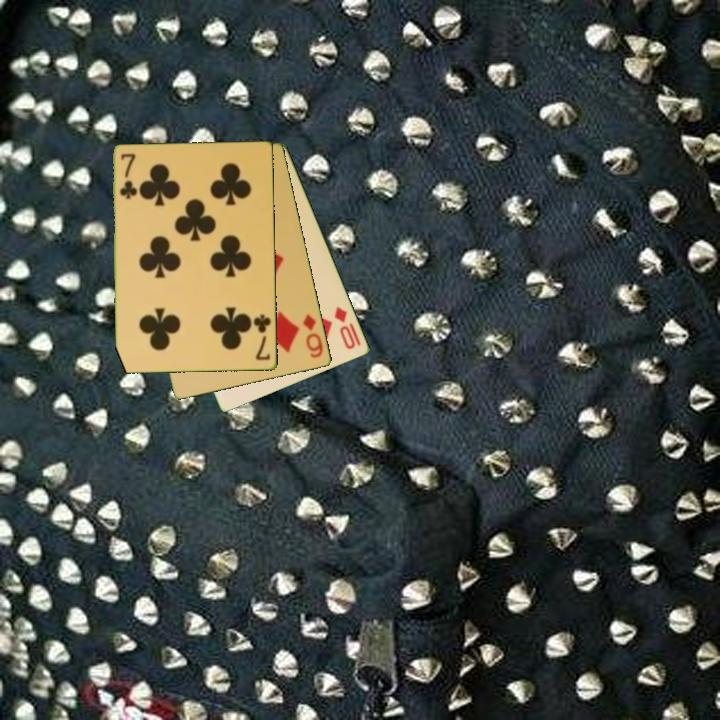10d: (331, 303, 359, 353)
6d: (300, 311, 326, 361)
7c: (250, 311, 274, 364), (117, 150, 138, 202)
